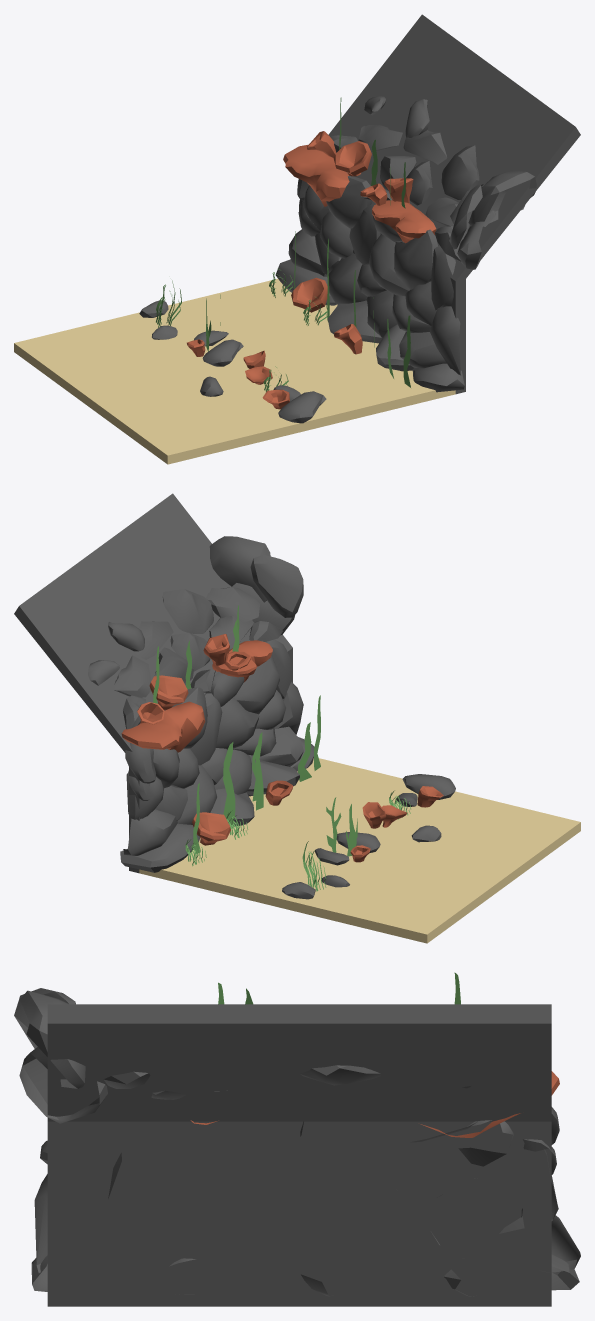
The model's file is SM_Tile_03.fbx.
3 renders of one model, top to bottom at view 1: azimuth 30°, elevation 25°; view 2: azimuth 150°, elevation 25°; view 3: azimuth 270°, elevation 25°, orthographic. The views are drawn at different scales.
Visible parts, largest first — view 1: SM_Tile_03; view 2: SM_Tile_03; view 3: SM_Tile_03.
Part boxes in pixels (left/top/right/bottom): SM_Tile_03: left=14, top=14, right=580, bottom=464; SM_Tile_03: left=14, top=493, right=580, bottom=943; SM_Tile_03: left=14, top=972, right=580, bottom=1306.
Size of the model in its own units: 4452 by 2531 by 3227.
